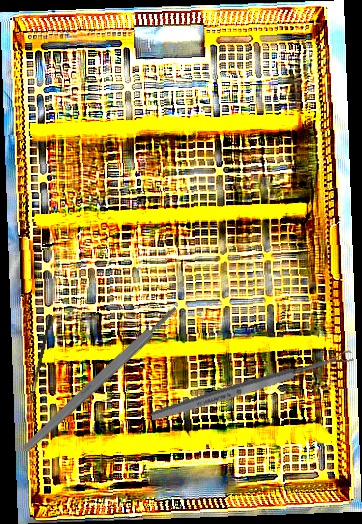Hook Surgical: (24, 314, 54, 426)
Scalpel Handle: (20, 304, 181, 454)
Surgical Spoon: (149, 348, 355, 424)
